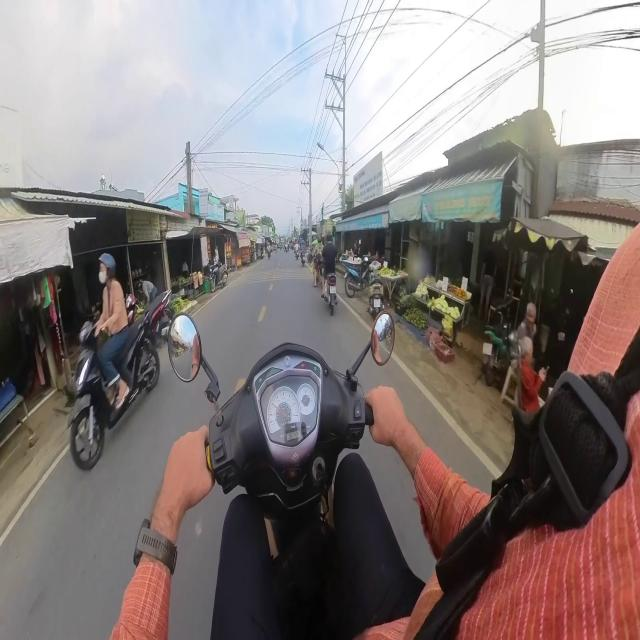motorcycle: (169, 312, 394, 639), (70, 307, 159, 470), (343, 257, 369, 298), (368, 261, 384, 315), (209, 261, 228, 292), (325, 274, 336, 315)
